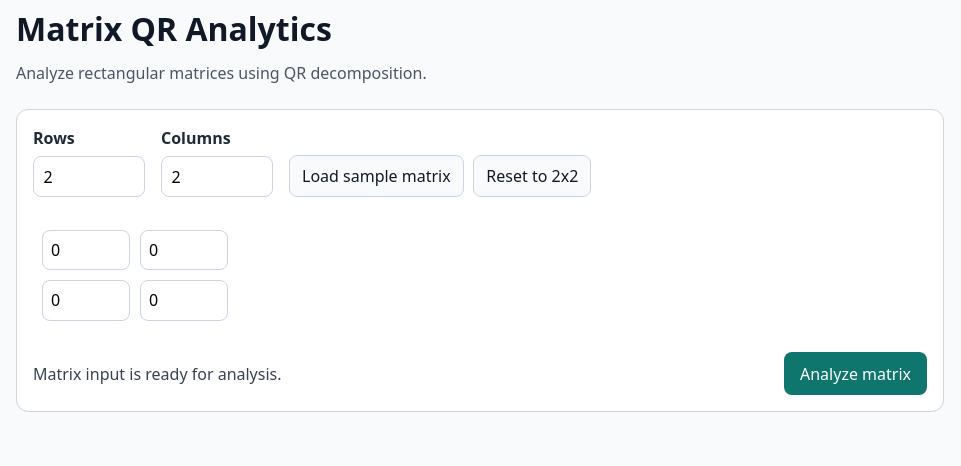
App › shows user-facing error and no results on API failure
Click the button "Analyze matrix".
click(856, 374)  # box [784,352,927,395]
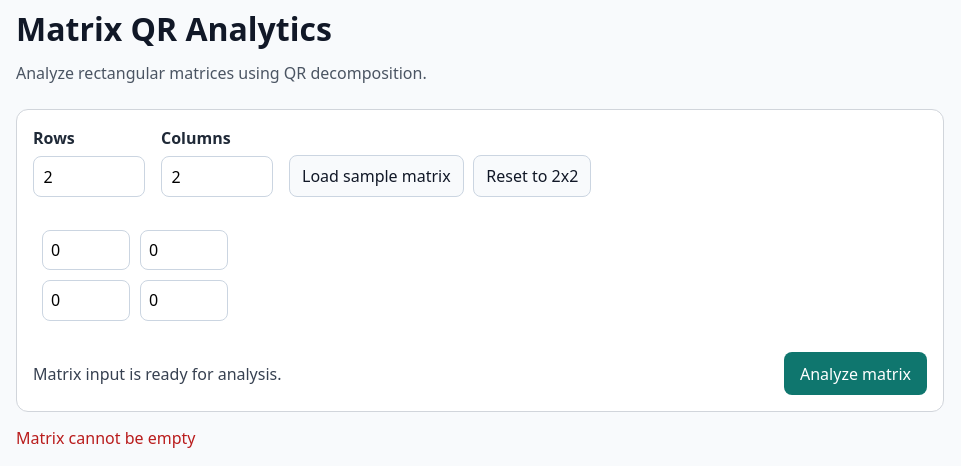
Result: the message "Matrix cannot be empty" is shown at [16,428,196,450]
